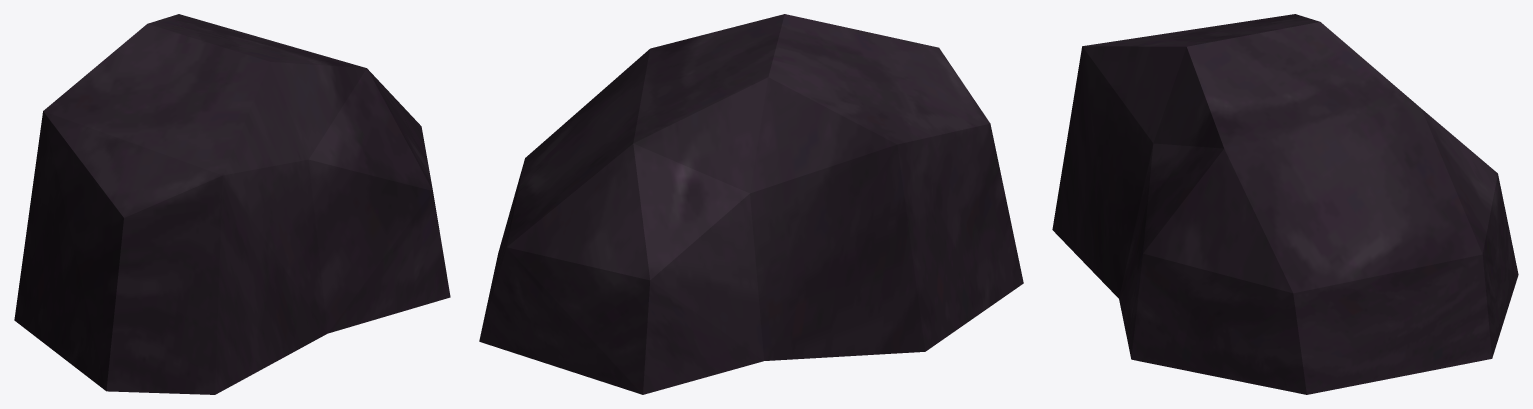
The model's file is cave_rock_04.fbx.
The picture shows the model from 3 angles, left to right: view 1: azimuth 30°, elevation 25°; view 2: azimuth 150°, elevation 25°; view 3: azimuth 270°, elevation 25°; orthographic projection. The views are drawn at different scales.
Visible parts, largest first — view 1: cave_tileset/rocks01_mat; view 2: cave_tileset/rocks01_mat; view 3: cave_tileset/rocks01_mat.
Boxes of the visible parts, x1,y1,x2,y2 form: cave_tileset/rocks01_mat: (14, 14, 450, 394); cave_tileset/rocks01_mat: (479, 14, 1023, 394); cave_tileset/rocks01_mat: (1052, 14, 1518, 394).
Bounding box in the file's own units: 1.24 × 0.6912 × 1.21.
